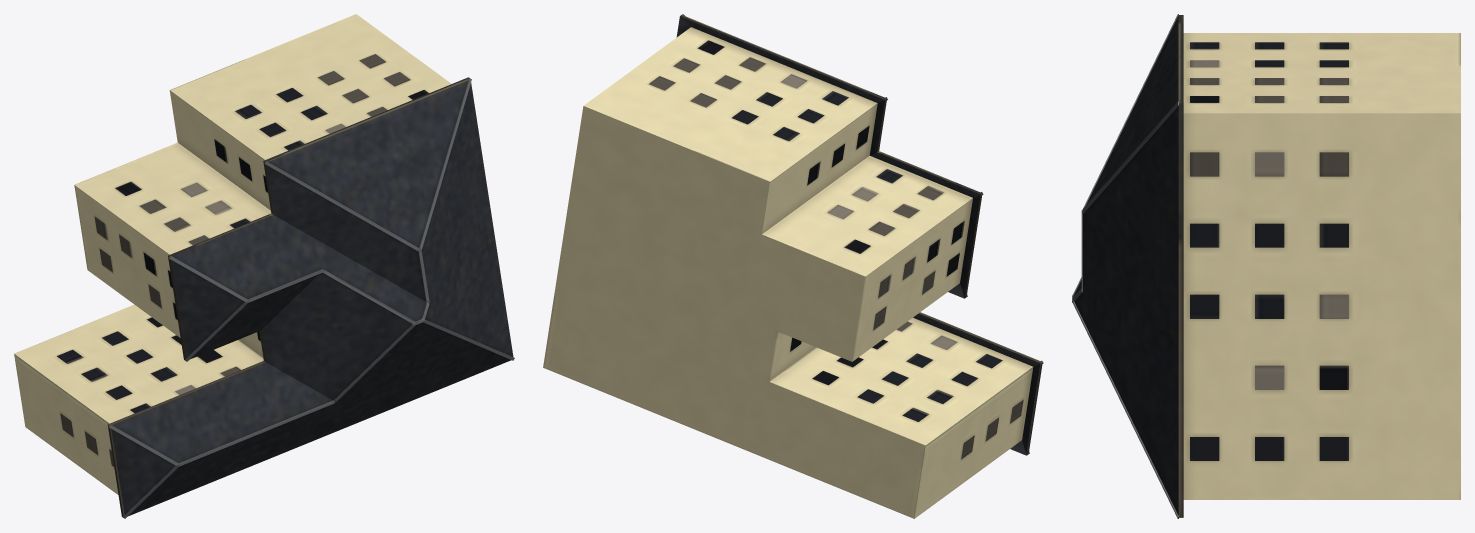
The model's file is house_b0103.obj.
3 renders of one model, left to right at view 1: azimuth 30°, elevation 25°; view 2: azimuth 150°, elevation 25°; view 3: azimuth 270°, elevation 25°, orthographic. The views are drawn at different scales.
Parts seen in each view (by area): view 1: house_b0103; view 2: house_b0103; view 3: house_b0103.
Part boxes in pixels (<box>): house_b0103: <box>14,14,514,518</box>; house_b0103: <box>543,14,1043,518</box>; house_b0103: <box>1072,14,1460,518</box>.
Size of the model in its own units: 28.77 by 24.16 by 17.99.
1 material, 1 textured.
